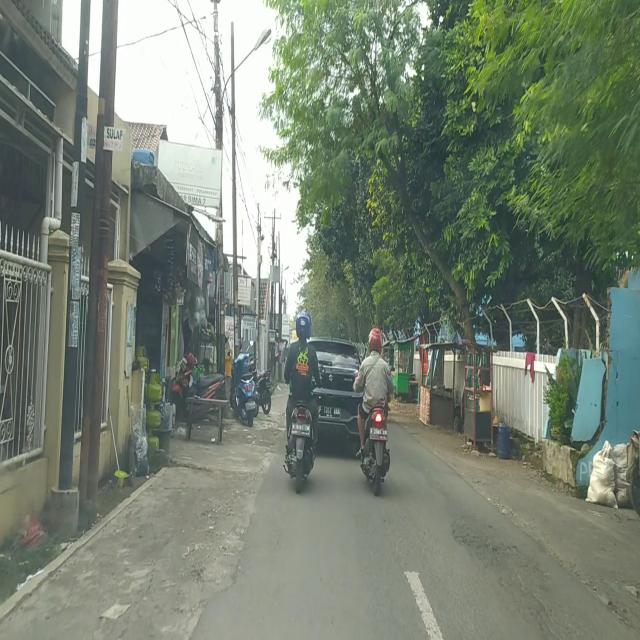Drain Hole: (449, 521, 562, 629)
